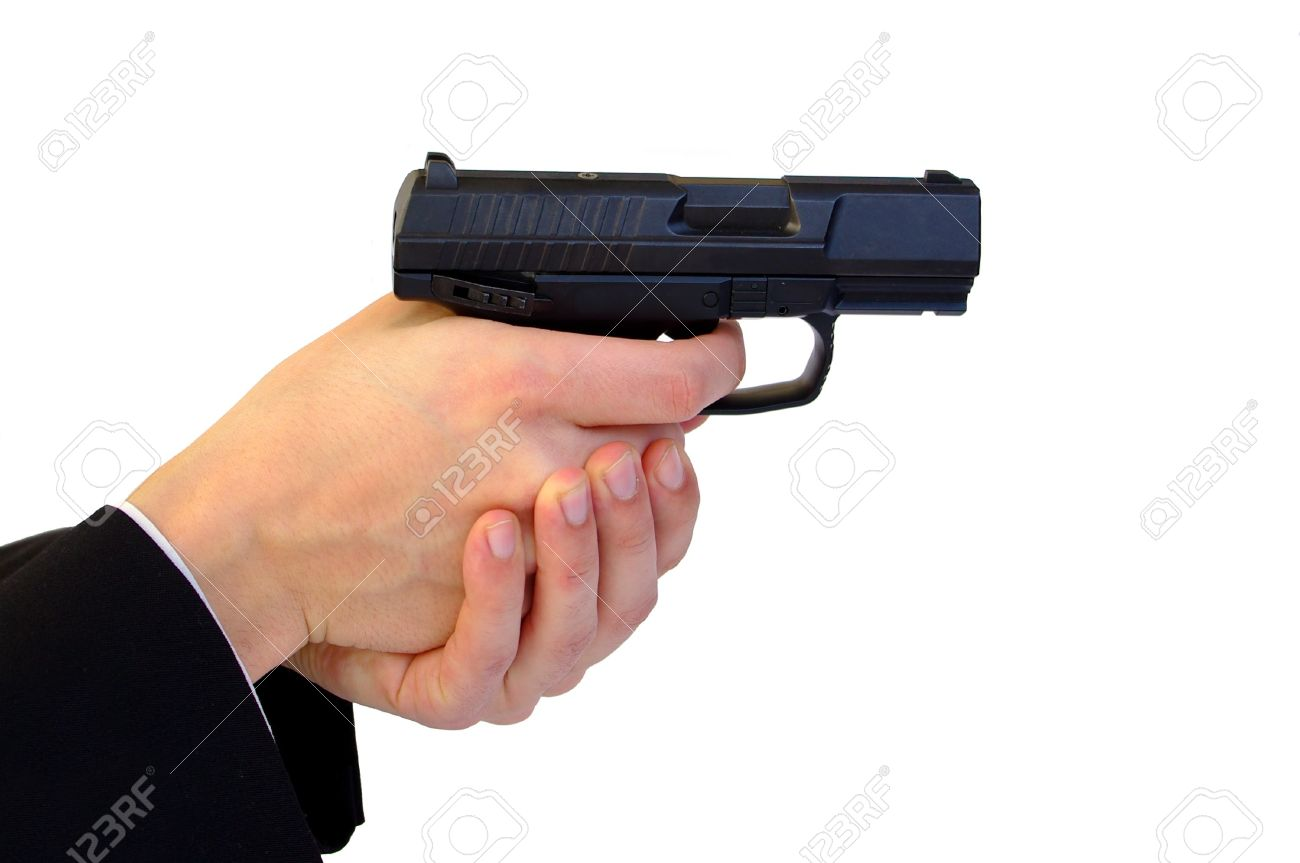pistol: (286, 63, 1086, 769)
